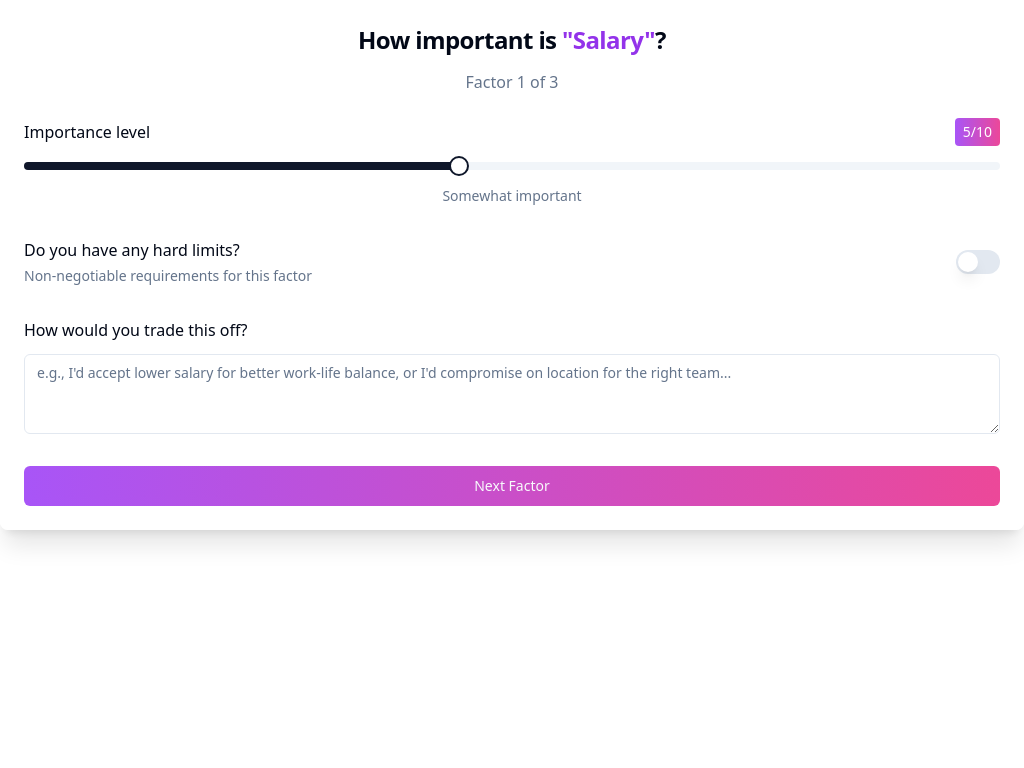
PhaseOne › should toggle hard limits switch
Click the switch at (978, 262), box left=956, top=250, right=1000, bottom=274
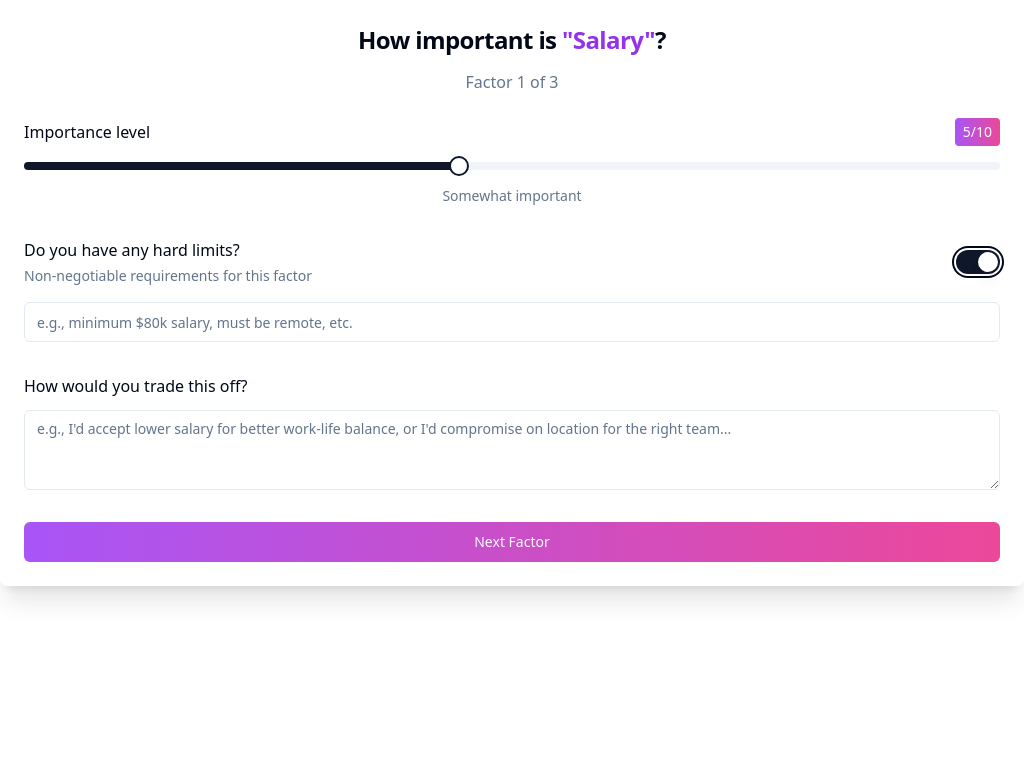
Now the switch is checked, box left=956, top=250, right=1000, bottom=274
Now the field with placeholder "e.g., minimum $80k salary, must be remote, etc." is shown, box left=24, top=302, right=1000, bottom=342
